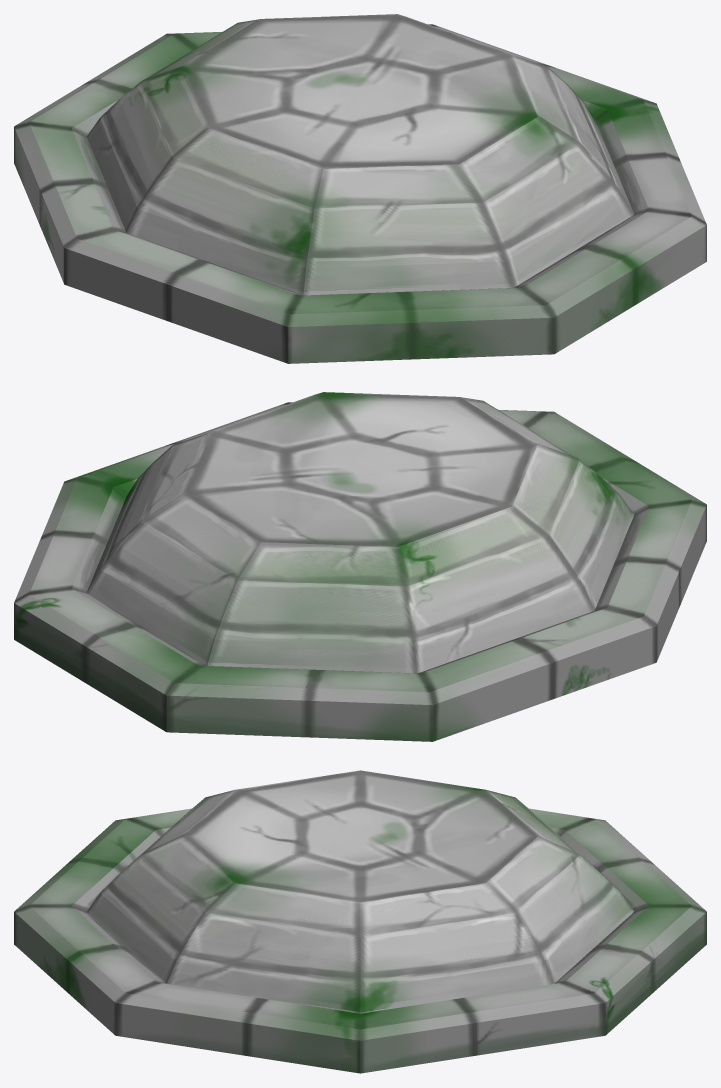
The model's file is bedawang altar.fbx.
The picture shows the model from 3 angles, top to bottom: view 1: azimuth 30°, elevation 25°; view 2: azimuth 150°, elevation 25°; view 3: azimuth 270°, elevation 25°; orthographic projection. The views are drawn at different scales.
Visible parts, largest first — view 1: Cylinder; view 2: Cylinder; view 3: Cylinder.
Part boxes in pixels (bbox=[...]): Cylinder: bbox=[14, 14, 706, 363]; Cylinder: bbox=[14, 392, 706, 741]; Cylinder: bbox=[14, 770, 706, 1073].
Bounding box in the file's own units: 2665 × 520 × 3022.
